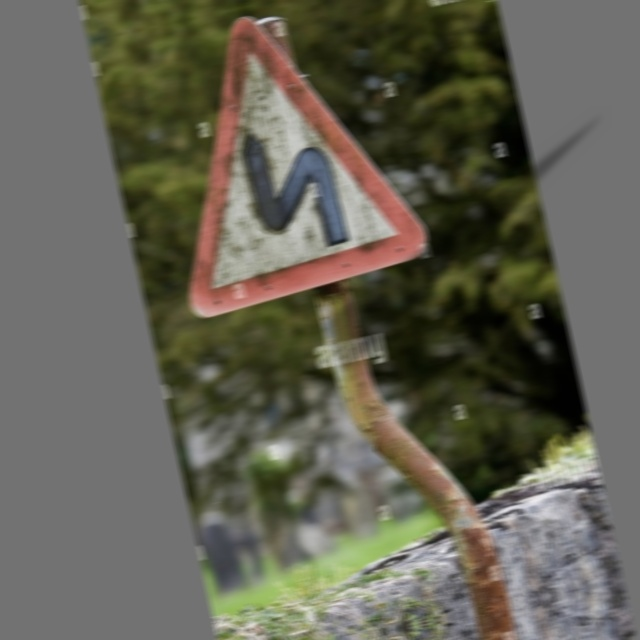Left_Reverse_Bend: (138, 1, 444, 318)
